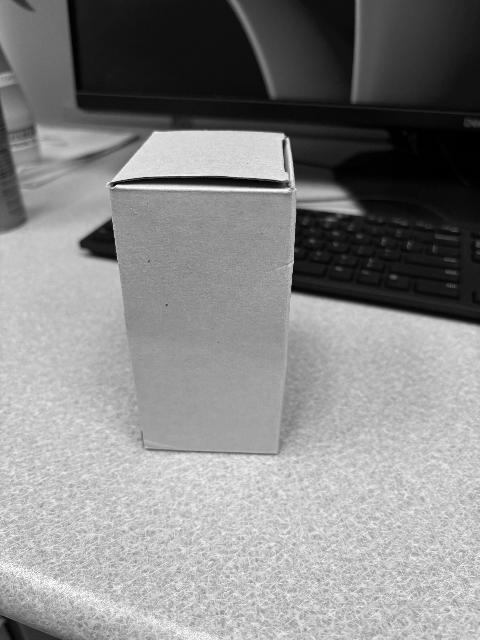CameraBox1: (108, 131, 297, 457)
